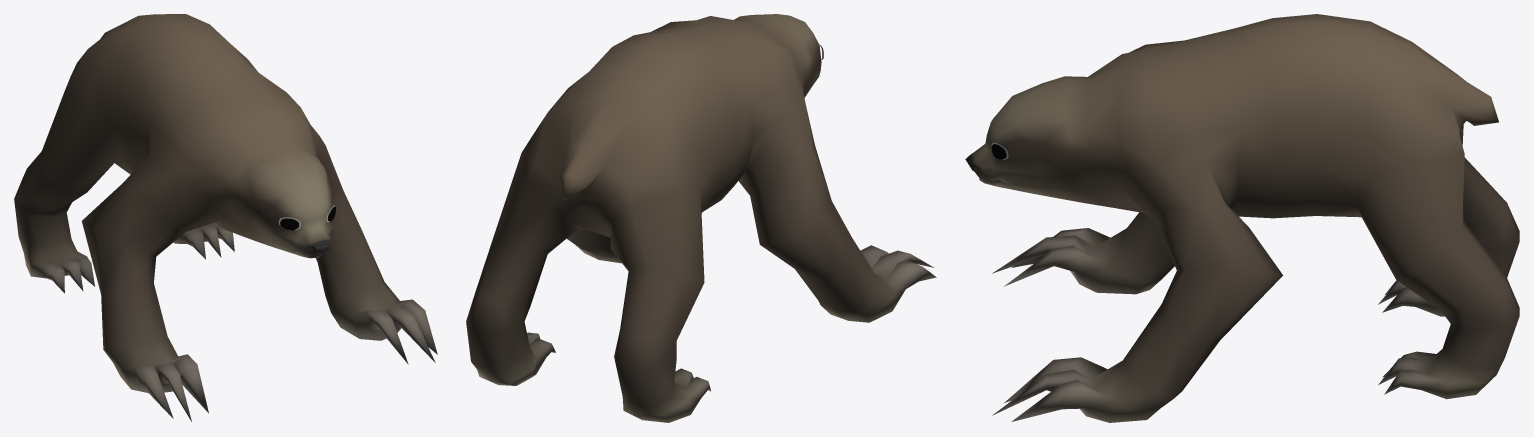
File: kit-sloth.glb
3 renders of one model, left to right at view 1: azimuth 30°, elevation 25°; view 2: azimuth 150°, elevation 25°; view 3: azimuth 270°, elevation 25°, orthographic. The views are drawn at different scales.
Parts seen in each view (by area): view 1: base; view 2: base; view 3: base.
Boxes of the visible parts, bbox=[...] form: base: bbox=[14, 14, 437, 421]; base: bbox=[466, 14, 936, 422]; base: bbox=[965, 14, 1519, 422].
Size of the model in its own units: 0.647 by 0.5936 by 0.9242.
